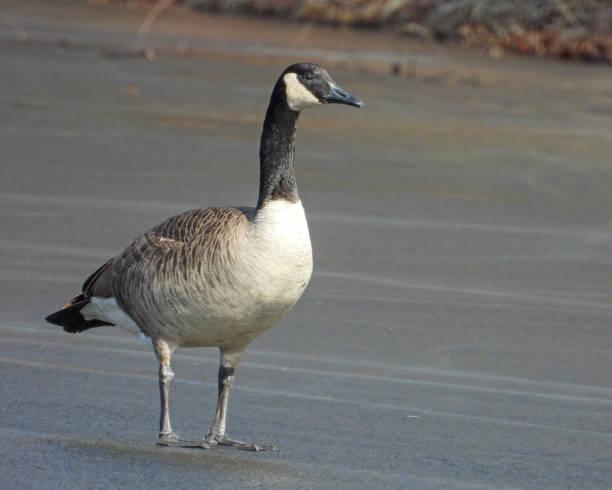Canadian-Goose: (55, 61, 366, 462)
